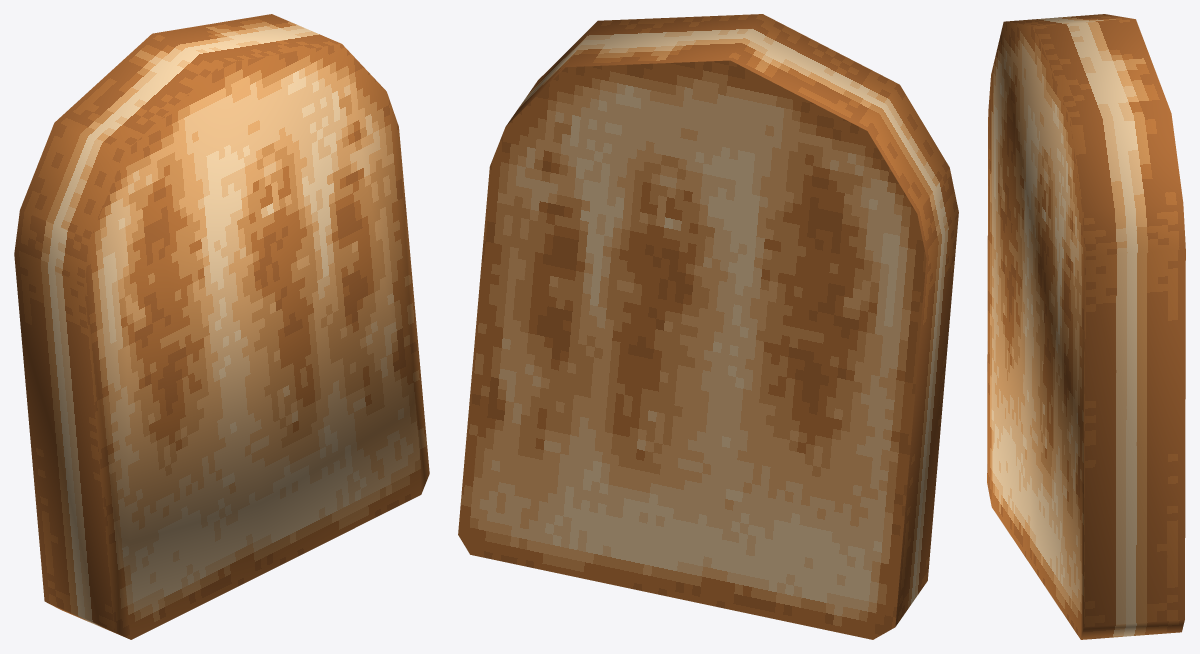
The model's file is H_Sandwich.fbx.
The picture shows the model from 3 angles, left to right: view 1: azimuth 30°, elevation 25°; view 2: azimuth 150°, elevation 25°; view 3: azimuth 270°, elevation 25°; orthographic projection. The views are drawn at different scales.
Parts seen in each view (by area): view 1: GrilledCheeseSandwich001; view 2: GrilledCheeseSandwich001; view 3: GrilledCheeseSandwich001.
Part boxes in pixels (x1=…): GrilledCheeseSandwich001: x1=14, y1=14, x2=429, y2=639; GrilledCheeseSandwich001: x1=458, y1=14, x2=958, y2=639; GrilledCheeseSandwich001: x1=987, y1=14, x2=1185, y2=639.
Size of the model in its own units: 19.48 by 24.14 by 8.09.
